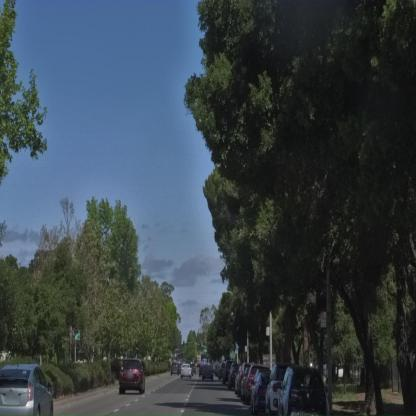car: (271, 364, 328, 416), (1, 364, 57, 416), (240, 364, 268, 402), (250, 368, 273, 414), (118, 360, 146, 395), (235, 364, 256, 397), (224, 364, 238, 388), (201, 364, 214, 381), (180, 365, 192, 378)
